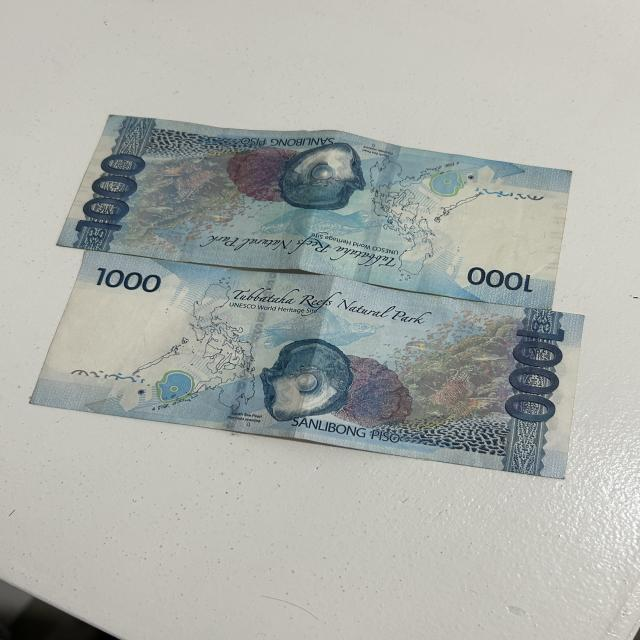1000_pearl: (268, 338, 353, 422), (278, 141, 360, 207)
1000_pearl_watermark: (158, 372, 193, 404), (430, 170, 466, 200)
